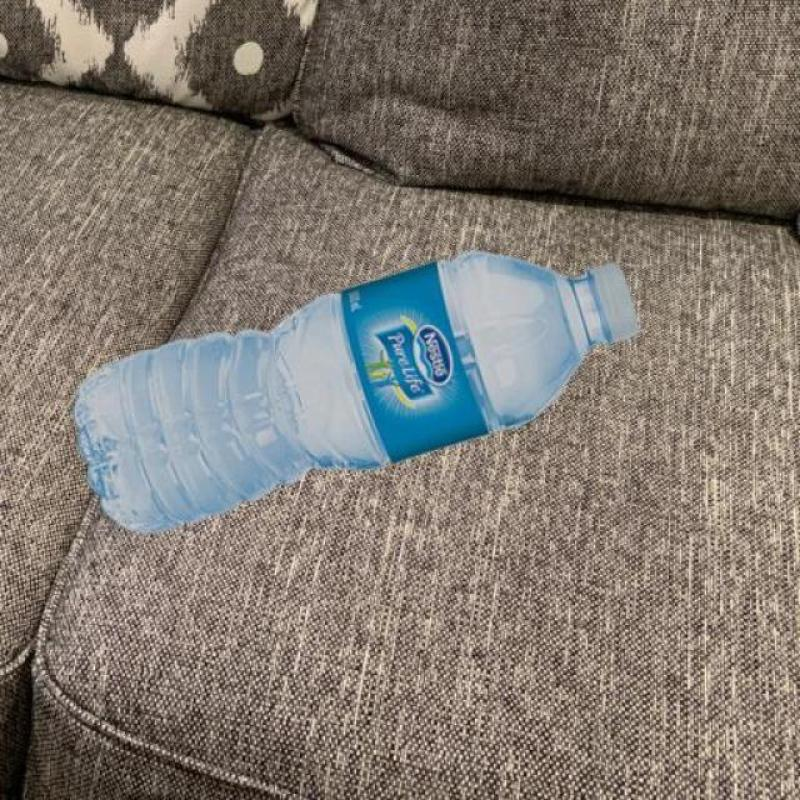botella: (69, 251, 643, 538)
